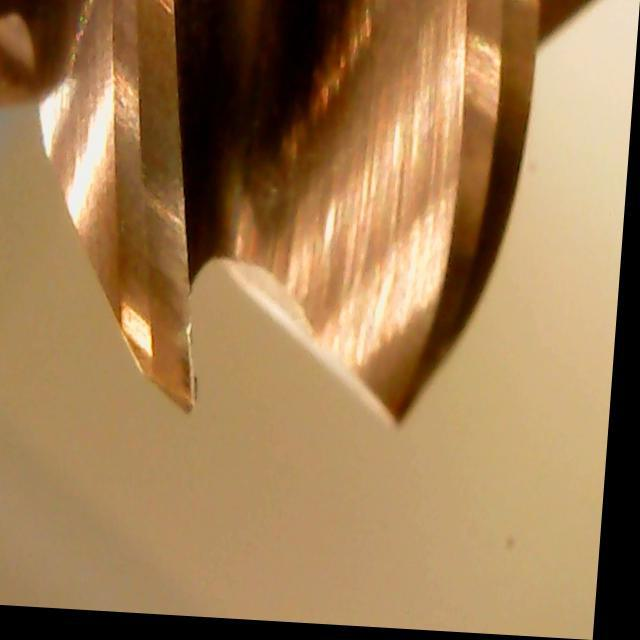Tool-wear-class-0: (114, 148, 228, 428)
